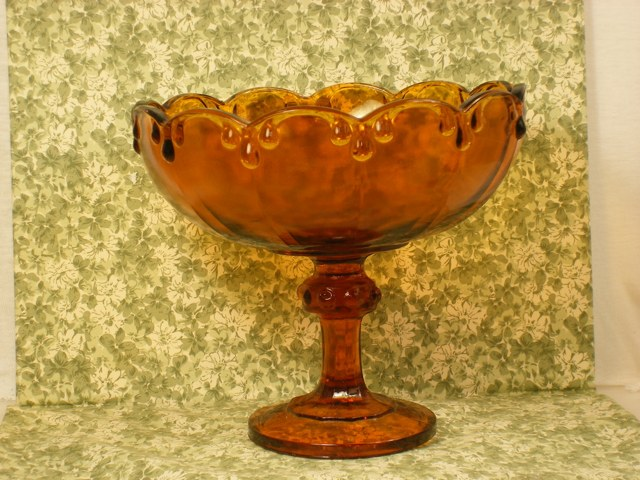bowl: (131, 80, 527, 460)
